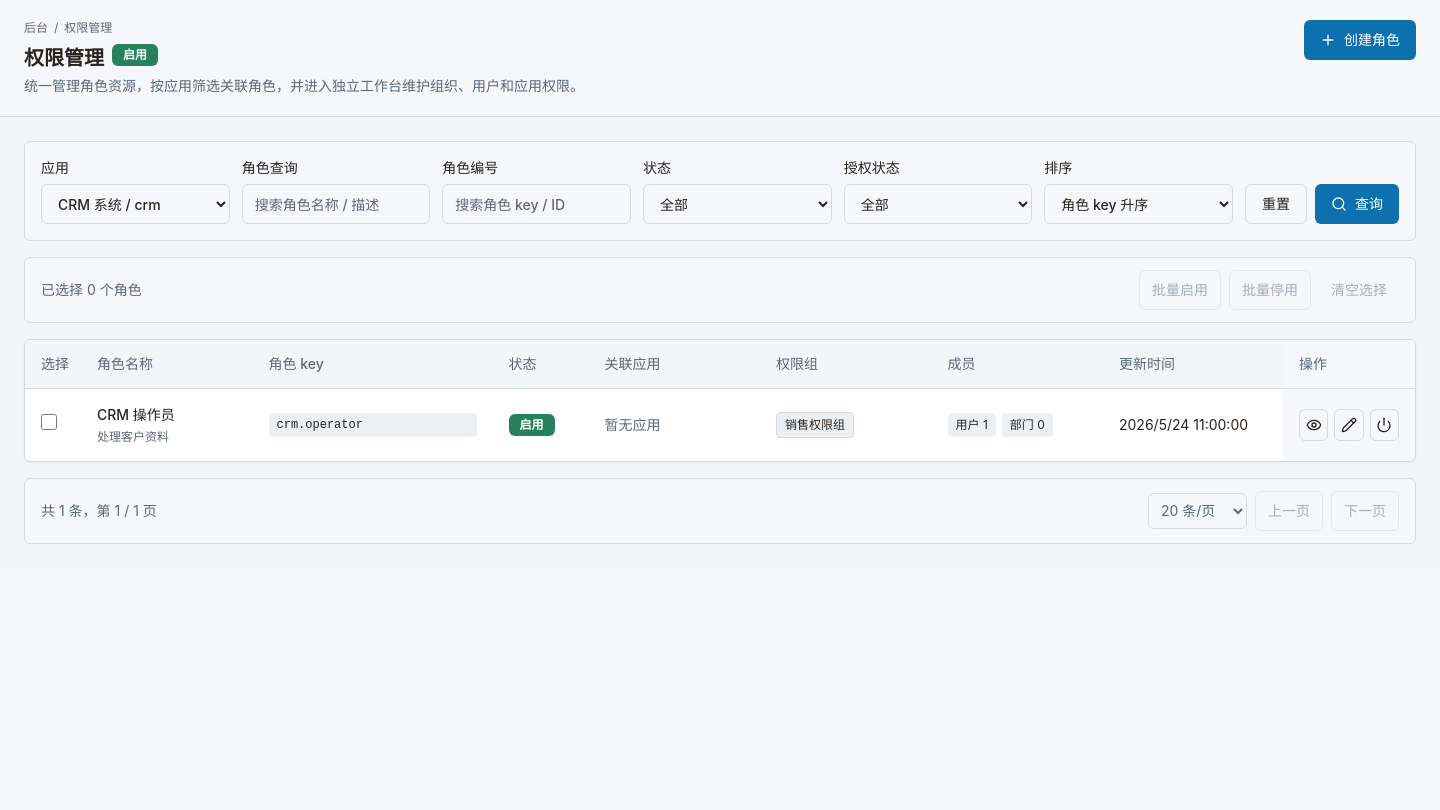
it: PermissionManagementView › bulk disables selected roles after confirmation and reloads the role list
This screenshot has width=1440, height=810.
Step 1. Click the checkbox named "选择 crm.operator" → (49, 422), box 41,414 -> 57,430
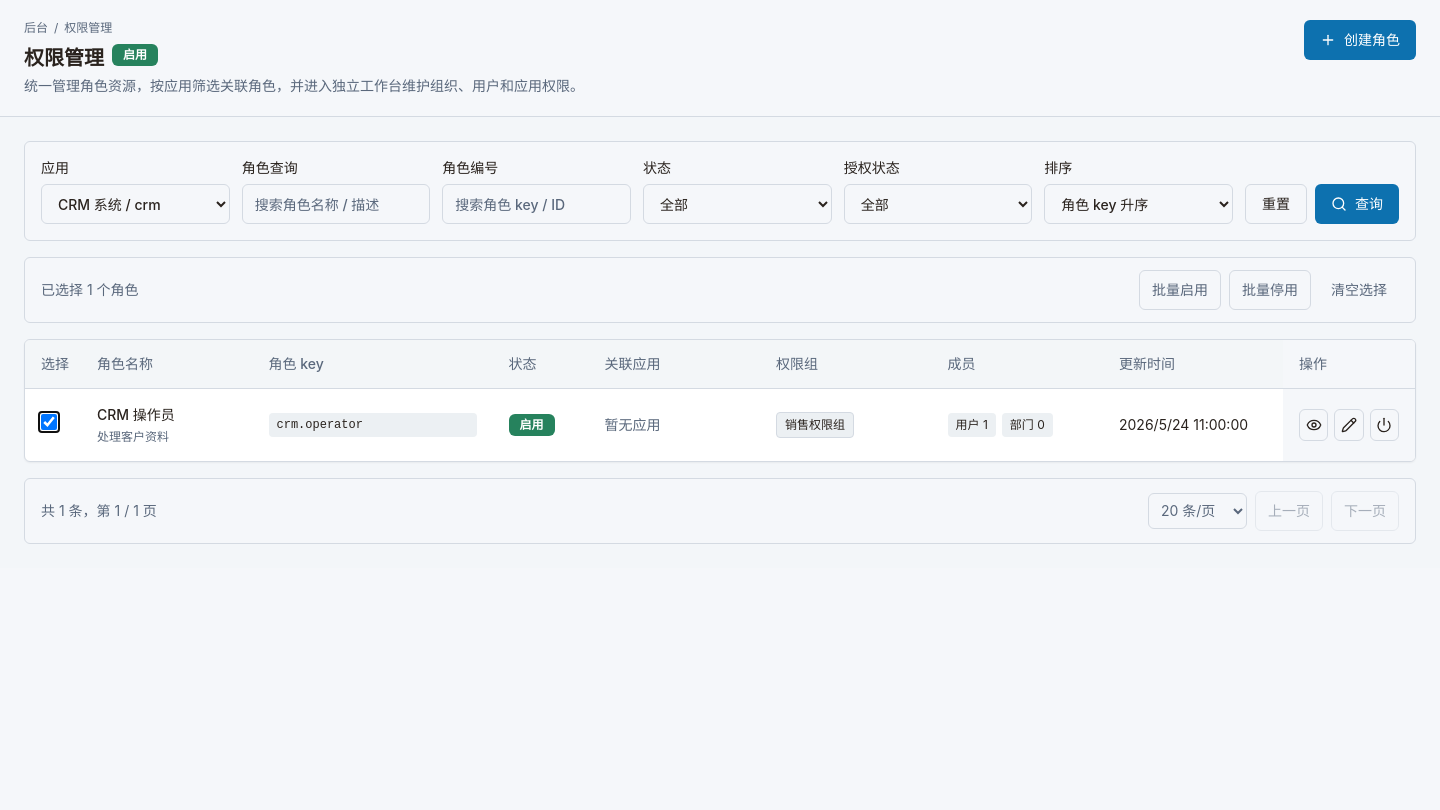
Step 2. Click the button "批量停用" → (1270, 290), box 1229,270 -> 1311,310
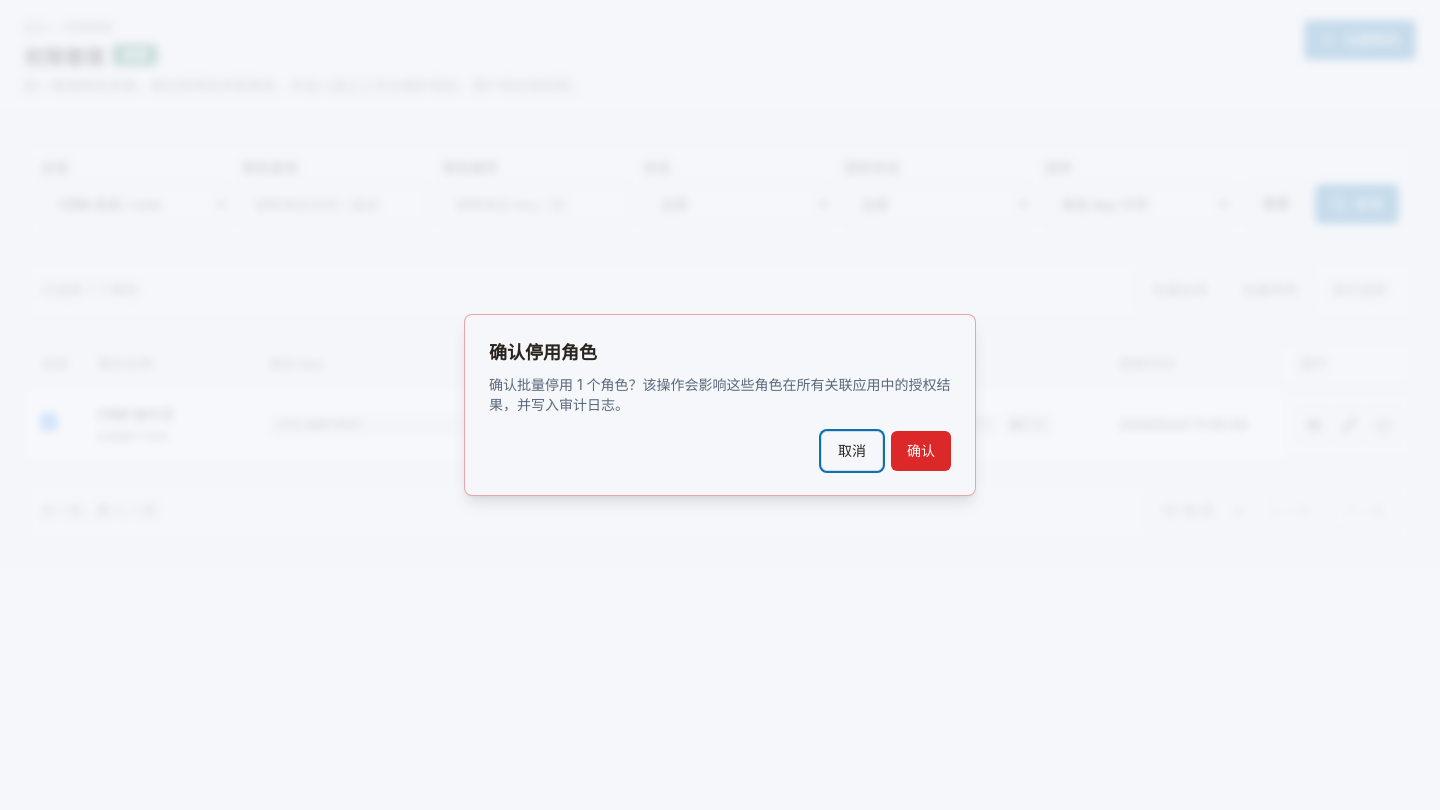
expect the dialog "确认停用角色" shows "确认批量停用 1 个角色": met, box 489,376 -> 951,413
Step 3. Click the button "确认" → (921, 451), box 891,431 -> 951,471
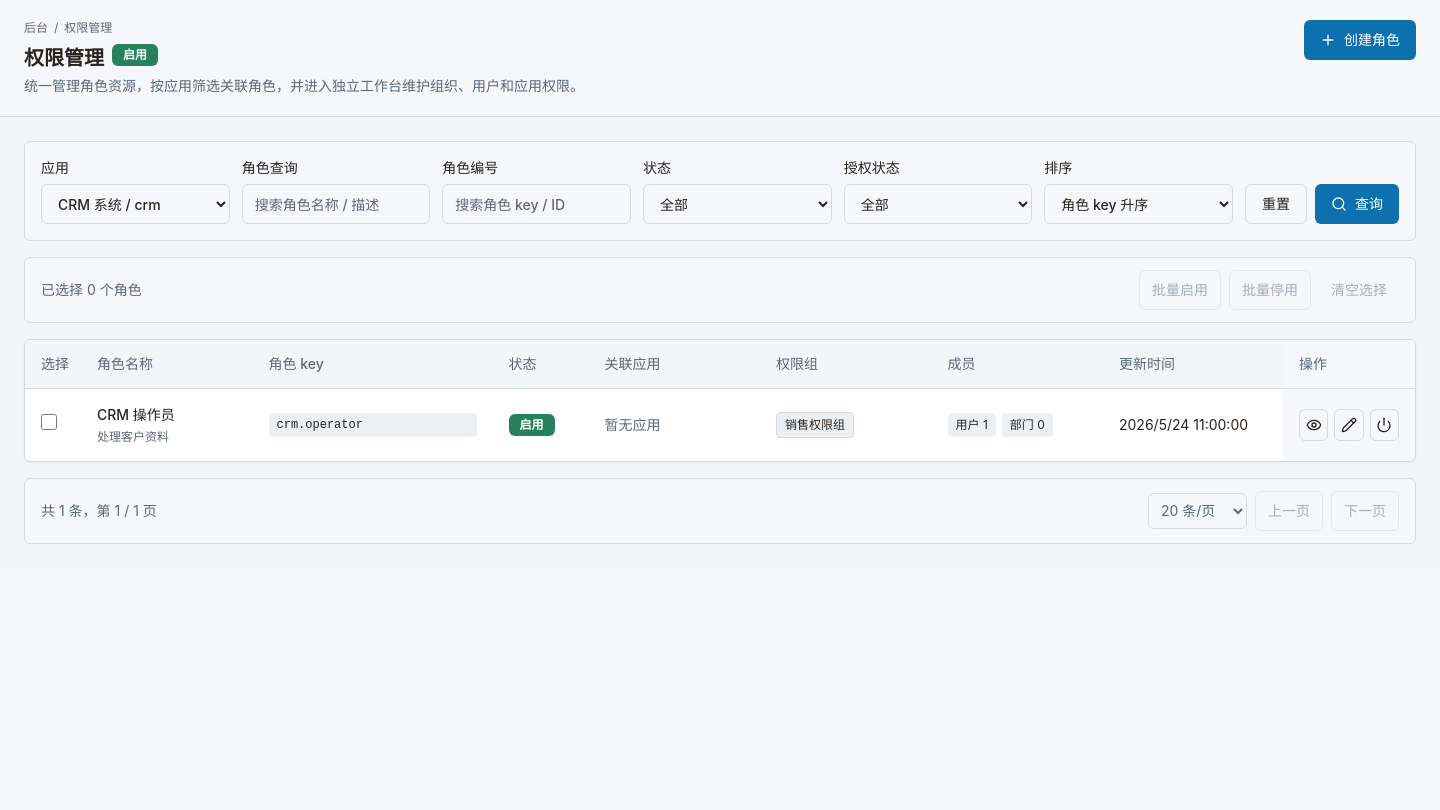
expect the text "已选择 0 个角色" is shown: met, box 41,280 -> 142,300
